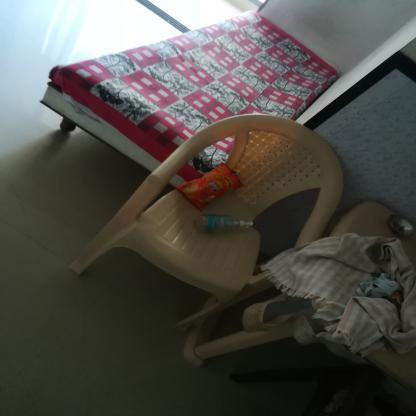hot_and_sweet: (176, 163, 247, 210)
